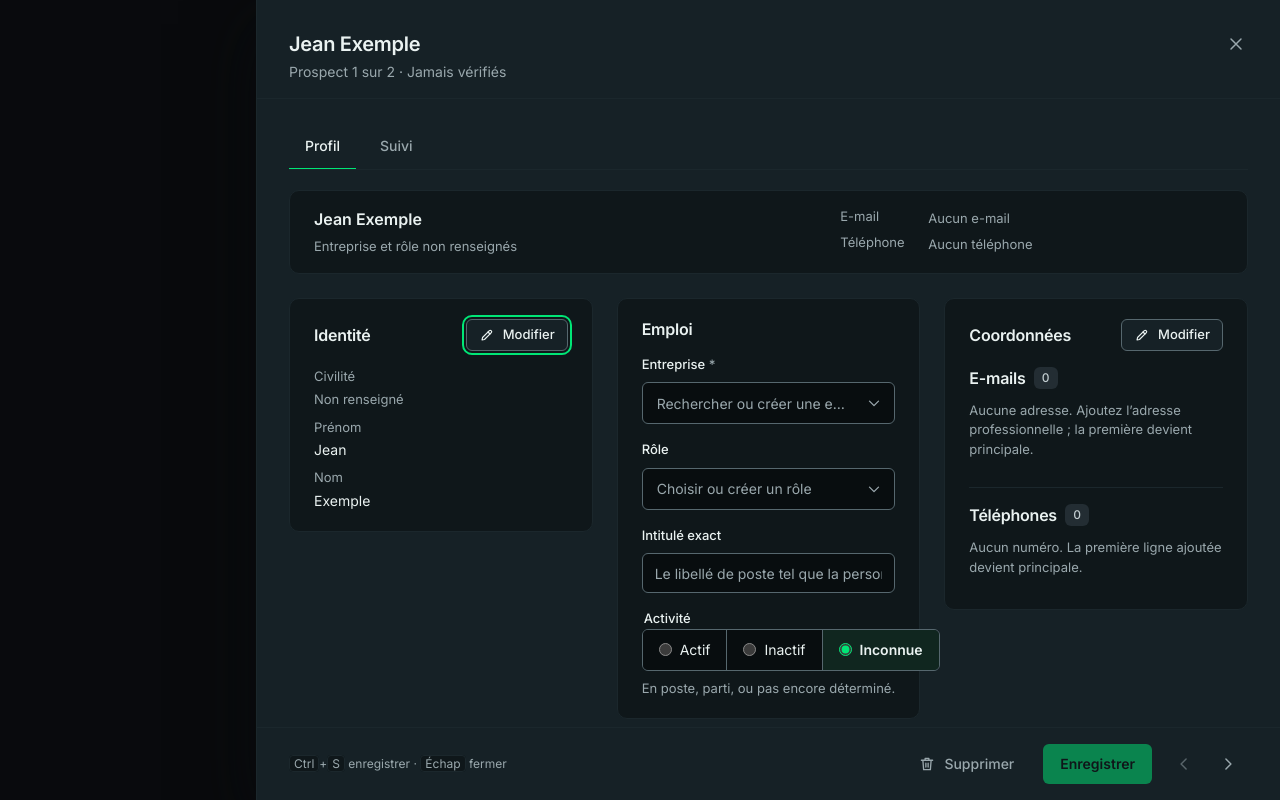
Scenario: Prospect editor — notes list › shows a compact empty state with the quick add, and no list
The width and height of the screenshot is (1280, 800).
Expected: the element "Identité" is shown, [289,298,593,532]
Click the tab "Suivi". click: (396, 146)
box: [364,123,429,170]
(page scrolled)
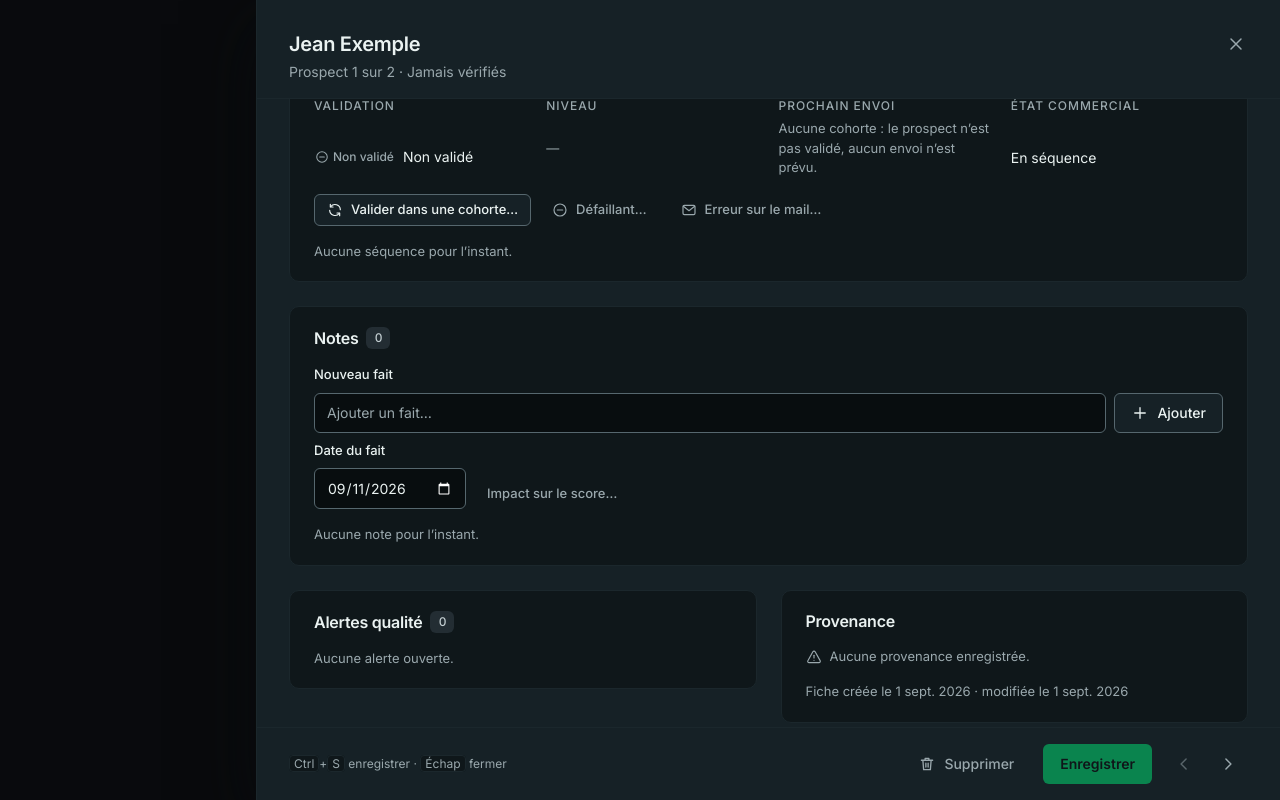
Expected: the text "Aucune note pour l’instant." is shown, [314,526,479,542]
Expected: the field labelled "Nouveau fait" is shown, [314,392,1106,432]
